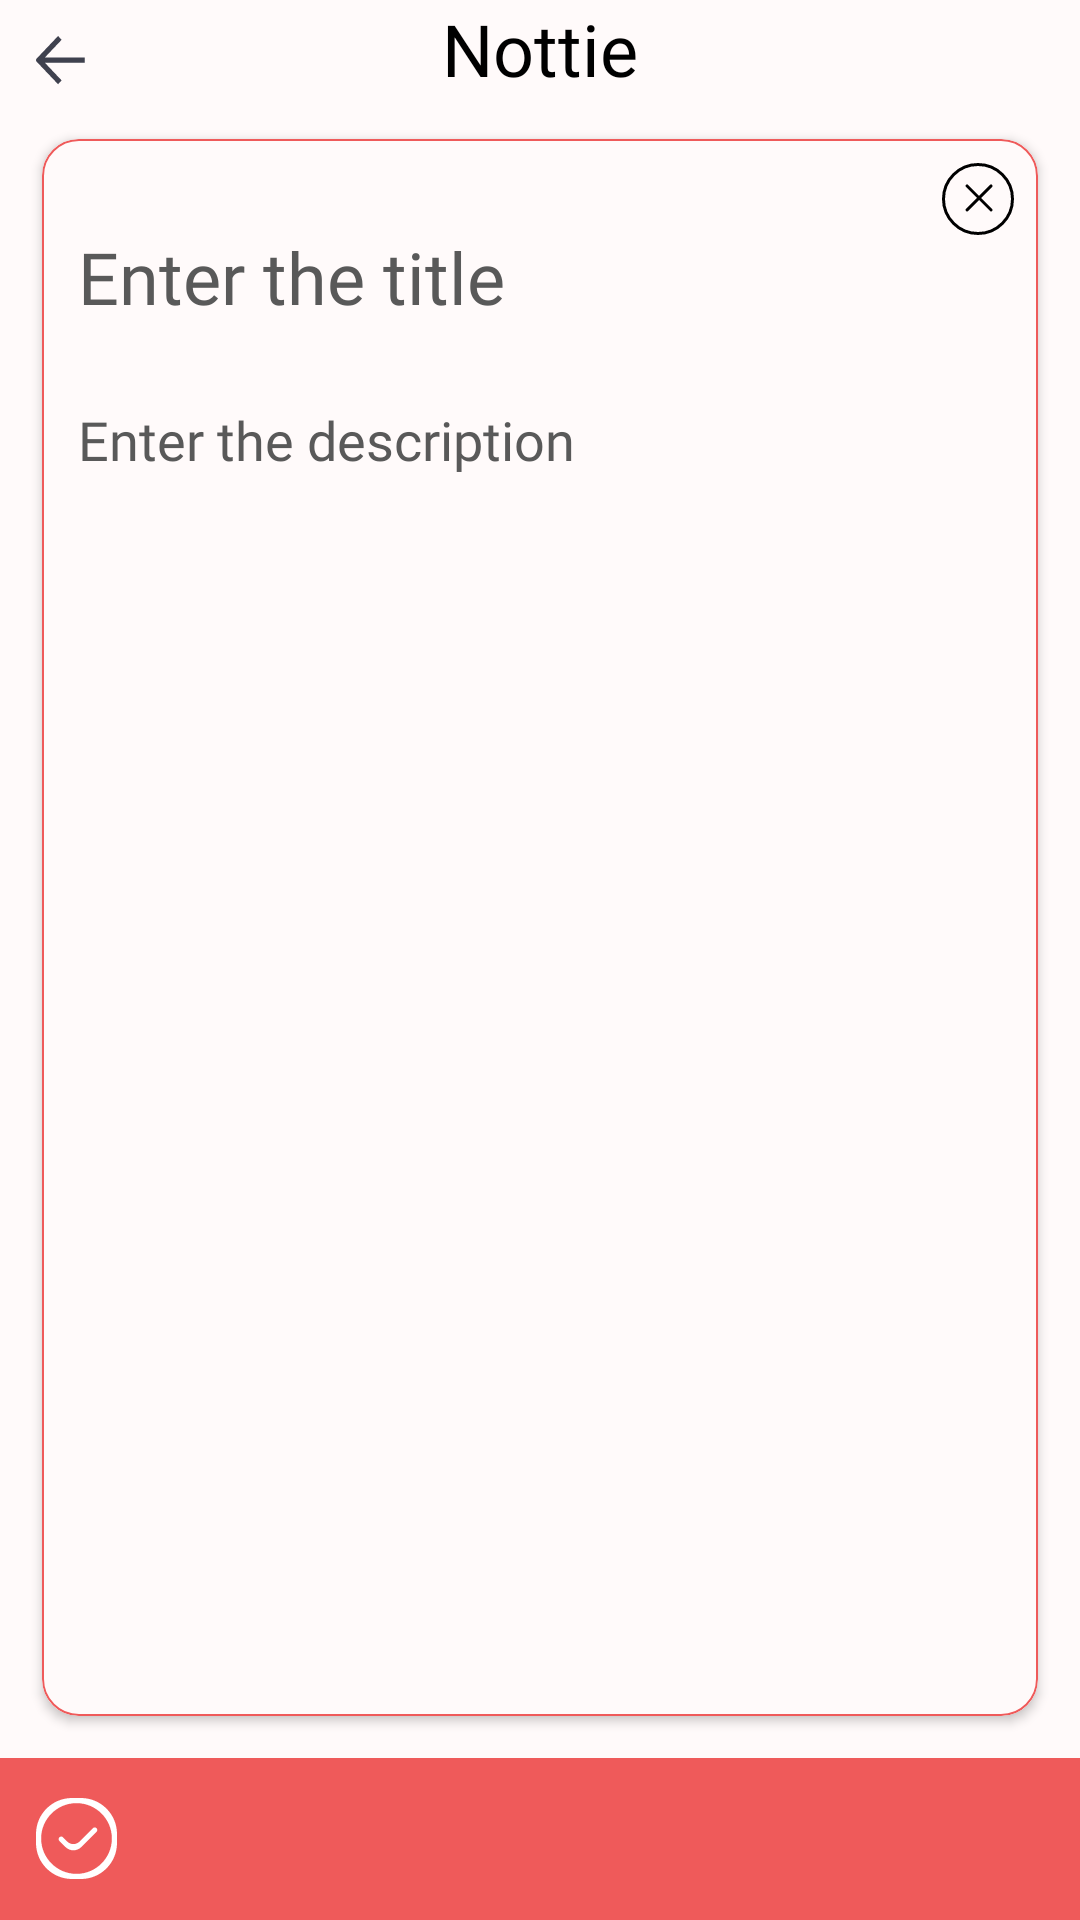

Where to tap for icons on this 1080 × 1920 app screen, as point (x, y):
back: point (60, 60)
delete: point (978, 199)
save: point (76, 1838)
